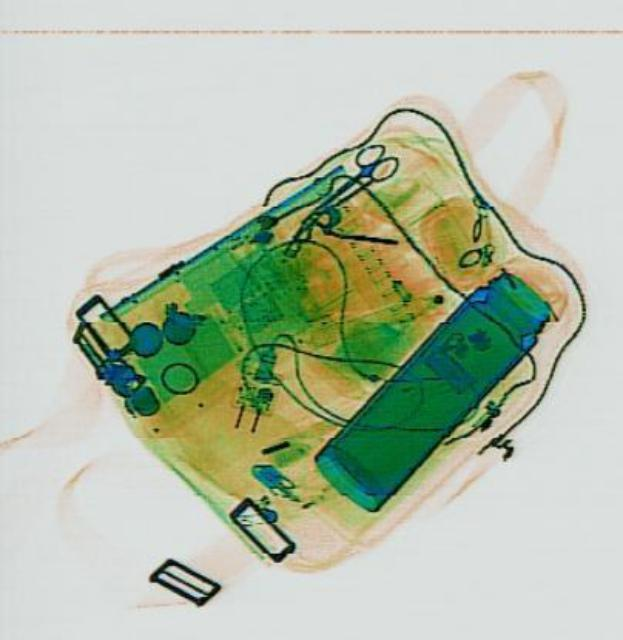Scissors: (299, 133, 402, 221)
